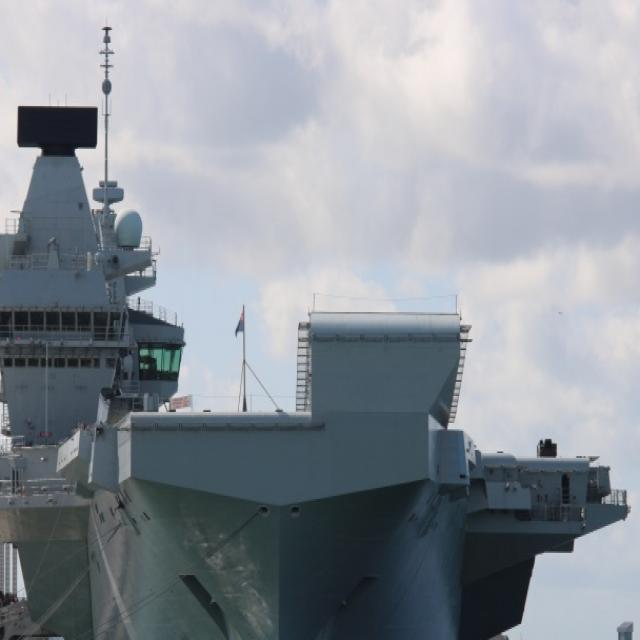Portanaves: (1, 20, 637, 640)
